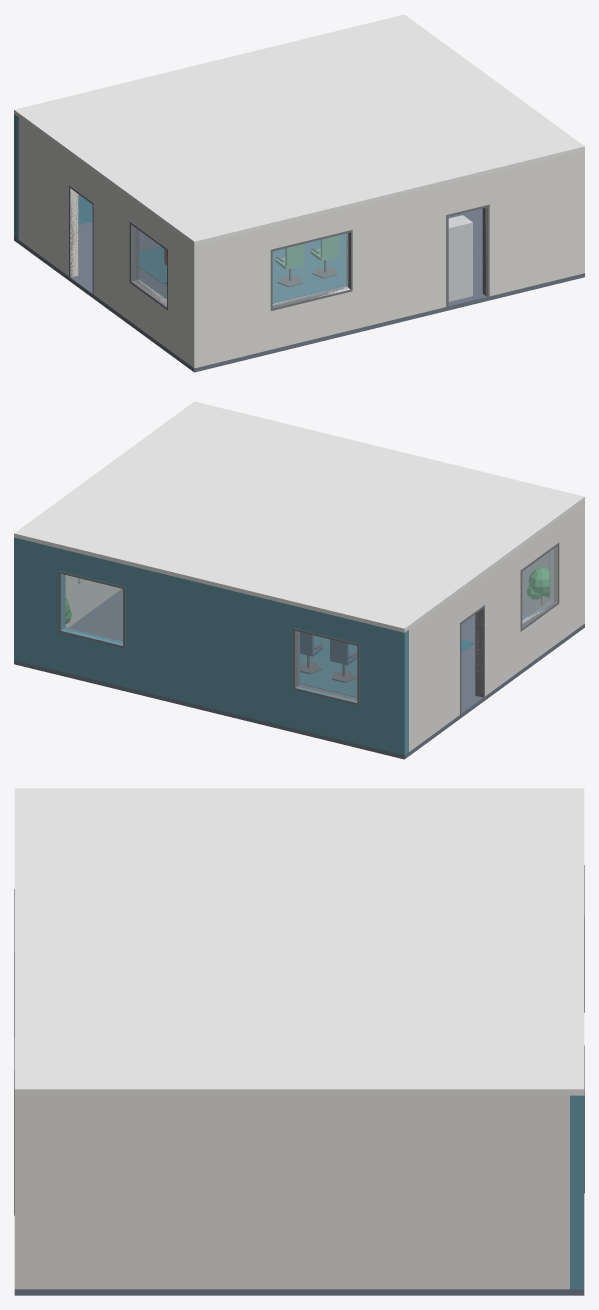
The picture shows the model from 3 angles, top to bottom: view 1: azimuth 30°, elevation 25°; view 2: azimuth 150°, elevation 25°; view 3: azimuth 270°, elevation 25°; orthographic projection. The views are drawn at different scales.
Visible parts, largest first — view 1: Ceiling, Wall_S, Wall_W, Frames_S, Floor, Rug, Frames_W, Cabinet_3, Wall_N, Chair_03, Chair_05; view 2: Ceiling, Wall_N, Wall_W, Frames_N, Floor, Frames_W, Rug, Wall_E, Wall_S, Chair_02, Plant, Chair_04; view 3: Ceiling, Wall_E, Floor, Wall_N, Wall_S.
Boxes of the visible parts, x1,y1,x2,y2 form: Ceiling: (14,14,584,245); Wall_S: (190,150,584,368); Wall_W: (18,117,189,364); Frames_S: (270,204,489,310); Floor: (14,208,584,372); Rug: (139,233,474,302); Frames_W: (69,185,168,310); Cabinet_3: (448,215,472,301); Wall_N: (14,114,92,239); Chair_03: (275,244,304,287); Chair_05: (310,235,339,278); Ceiling: (14,401,584,632); Wall_N: (14,537,408,755); Wall_W: (409,504,580,751); Frames_N: (58,571,359,705); Floor: (14,589,584,759); Frames_W: (460,542,559,714); Rug: (300,635,474,697); Wall_E: (65,575,121,627); Wall_S: (522,501,584,626); Chair_02: (330,639,357,682); Plant: (527,567,549,605); Chair_04: (300,632,323,674); Ceiling: (14,788,584,1095); Wall_E: (29,1095,569,1289); Floor: (14,1289,584,1295); Wall_N: (570,1095,584,1289); Wall_S: (14,1095,28,1289).
Bounding box in the file's own units: 10.01 × 3.2 × 8.02.
